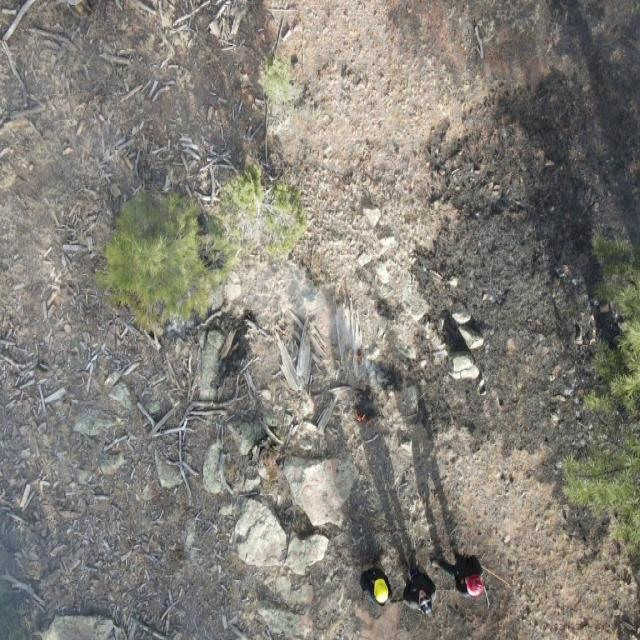fire: (349, 407, 374, 432), (345, 345, 368, 367)
smoke: (202, 220, 384, 434), (0, 502, 227, 640)
